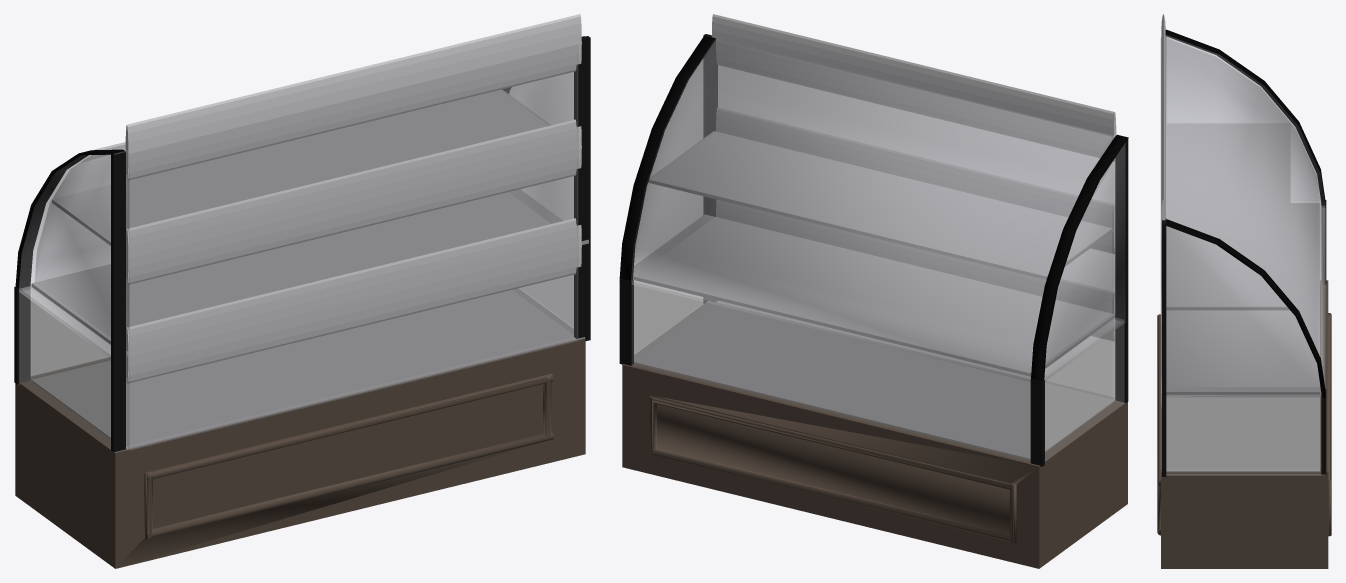
File: tiem-banh-ban-bay.glb
3 renders of one model, left to right at view 1: azimuth 30°, elevation 25°; view 2: azimuth 150°, elevation 25°; view 3: azimuth 270°, elevation 25°, orthographic. The views are drawn at different scales.
Visible parts, largest first — view 1: tiem-banh-ban-bay; view 2: tiem-banh-ban-bay; view 3: tiem-banh-ban-bay.
Boxes of the visible parts, x1=… form: tiem-banh-ban-bay: x1=14, y1=14, x2=590, y2=568; tiem-banh-ban-bay: x1=619, y1=14, x2=1128, y2=568; tiem-banh-ban-bay: x1=1157, y1=14, x2=1331, y2=568.
Bounding box in the file's own units: 6.2 × 5.46 × 2.34.
